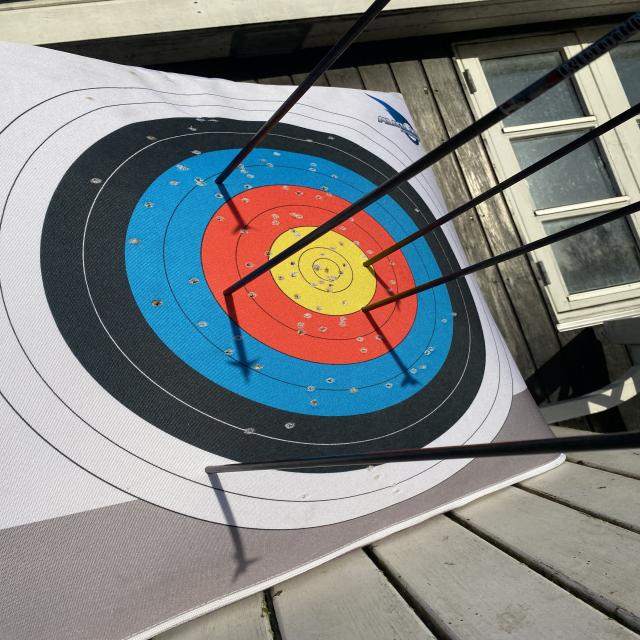Arrow_Blue: (197, 171, 239, 191)
Arrow_Red: (210, 278, 252, 312), (350, 293, 380, 322)
Arrow_White: (195, 448, 240, 487)
Arrow_Yellow: (355, 249, 382, 279)
